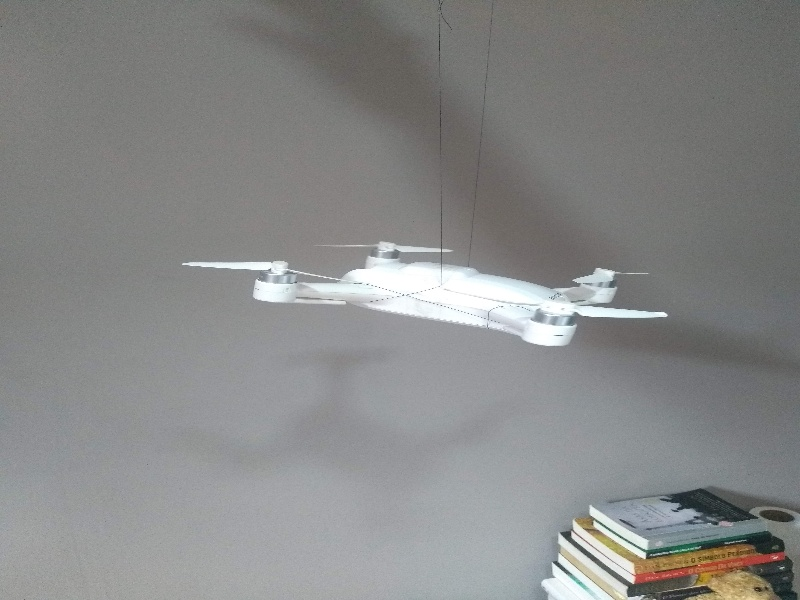drone: (198, 228, 673, 359)
